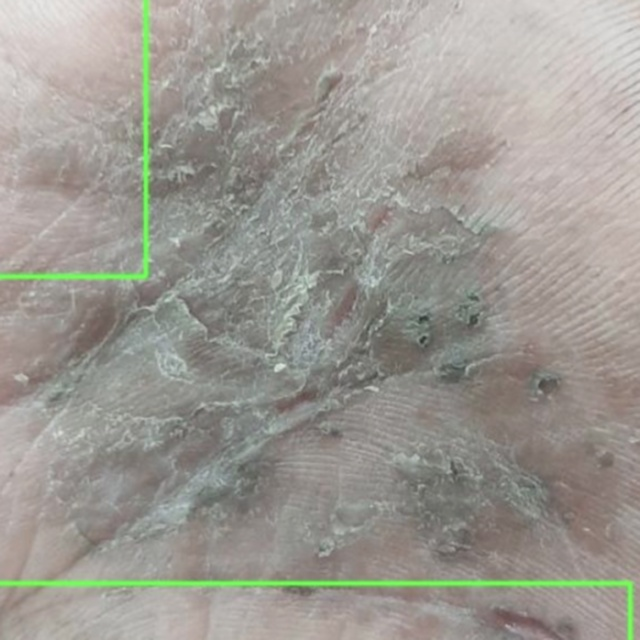Eczema: (0, 0, 145, 276), (0, 583, 630, 639)
